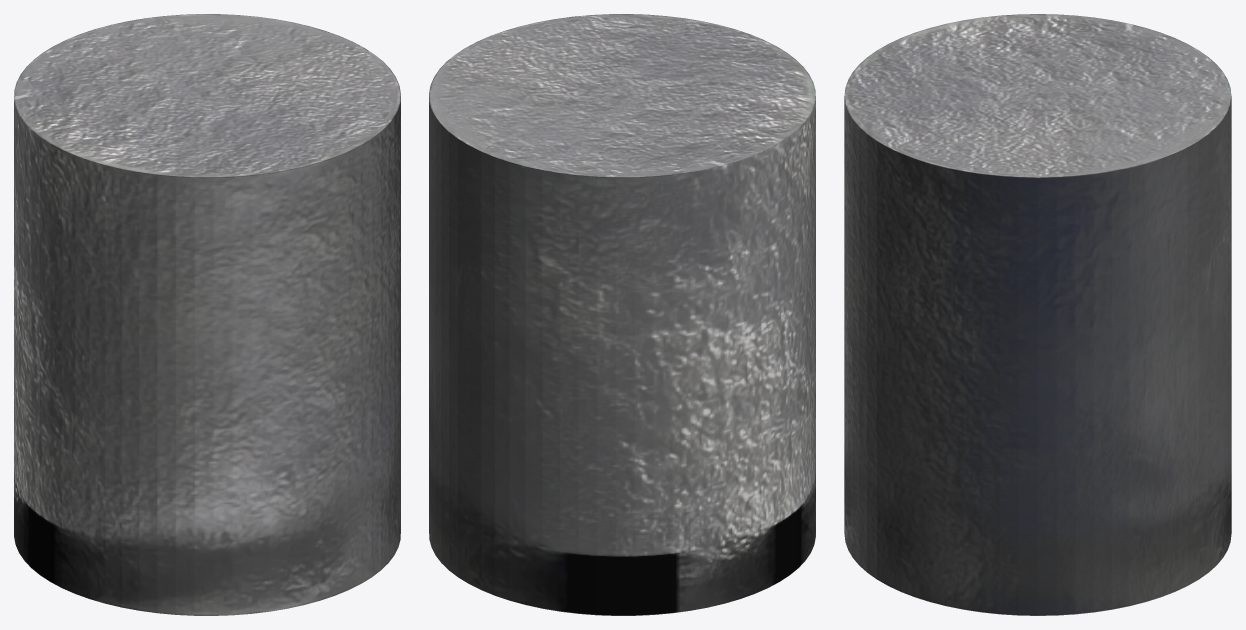
The model's file is cylinder-item.dae.
The picture shows the model from 3 angles, left to right: view 1: azimuth 30°, elevation 25°; view 2: azimuth 150°, elevation 25°; view 3: azimuth 270°, elevation 25°; orthographic projection.
Visible parts, largest first — view 1: Cylinder.001; view 2: Cylinder.001; view 3: Cylinder.001.
Boxes of the visible parts, x1,y1,x2,y2 form: Cylinder.001: (14, 14, 400, 615); Cylinder.001: (429, 14, 815, 615); Cylinder.001: (844, 14, 1231, 615).
Size of the model in its own units: 0.109 by 0.109 by 0.1362.
Materials: 1 (1 with a texture image).
